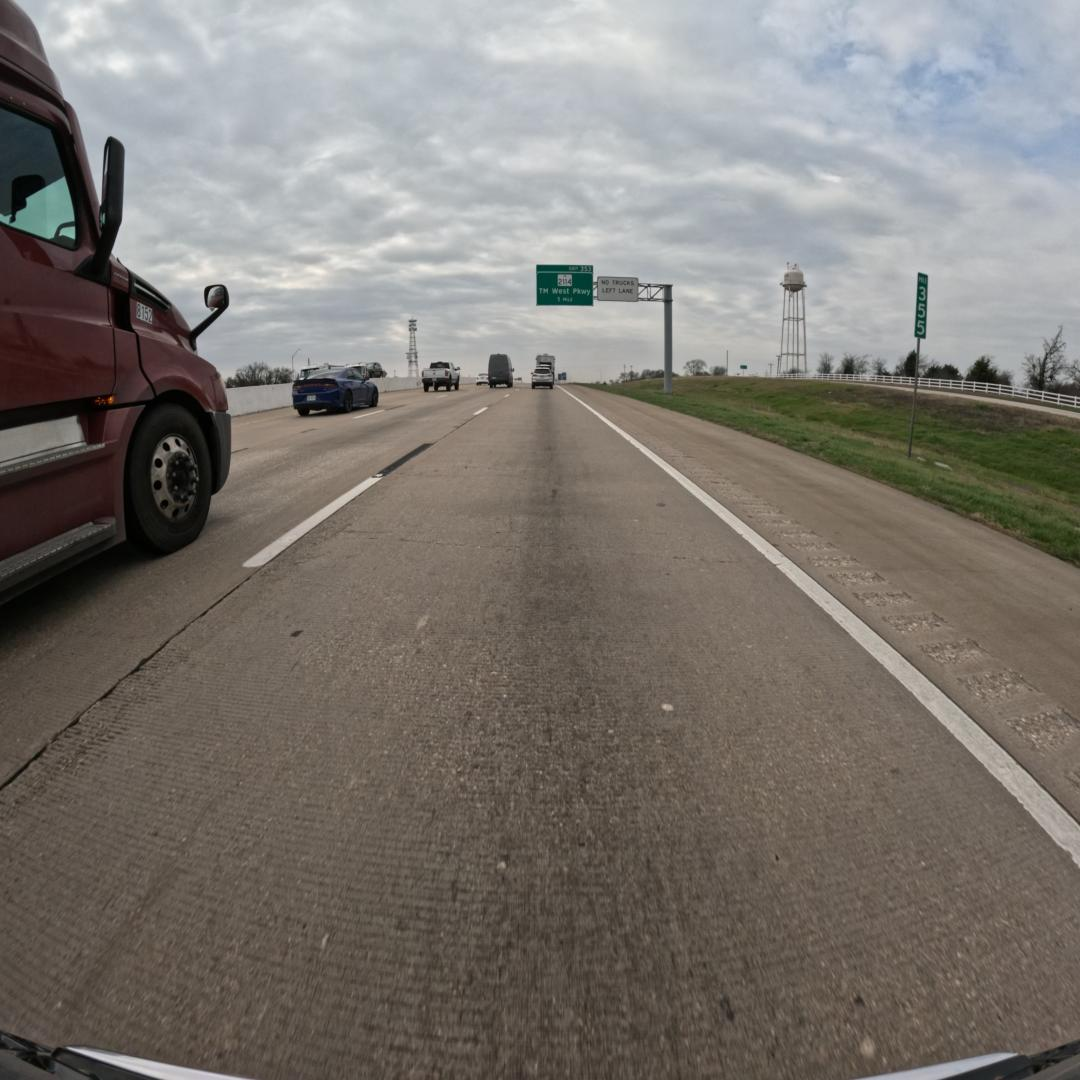lane0: (0, 389, 1080, 1077)
lane1: (0, 387, 509, 786)
